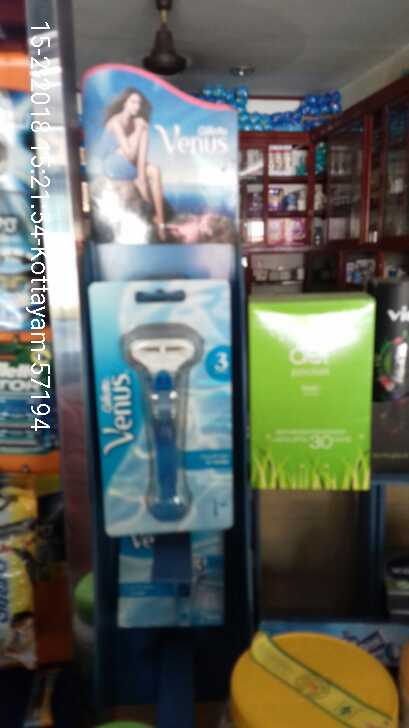venus: (85, 278, 236, 537)
